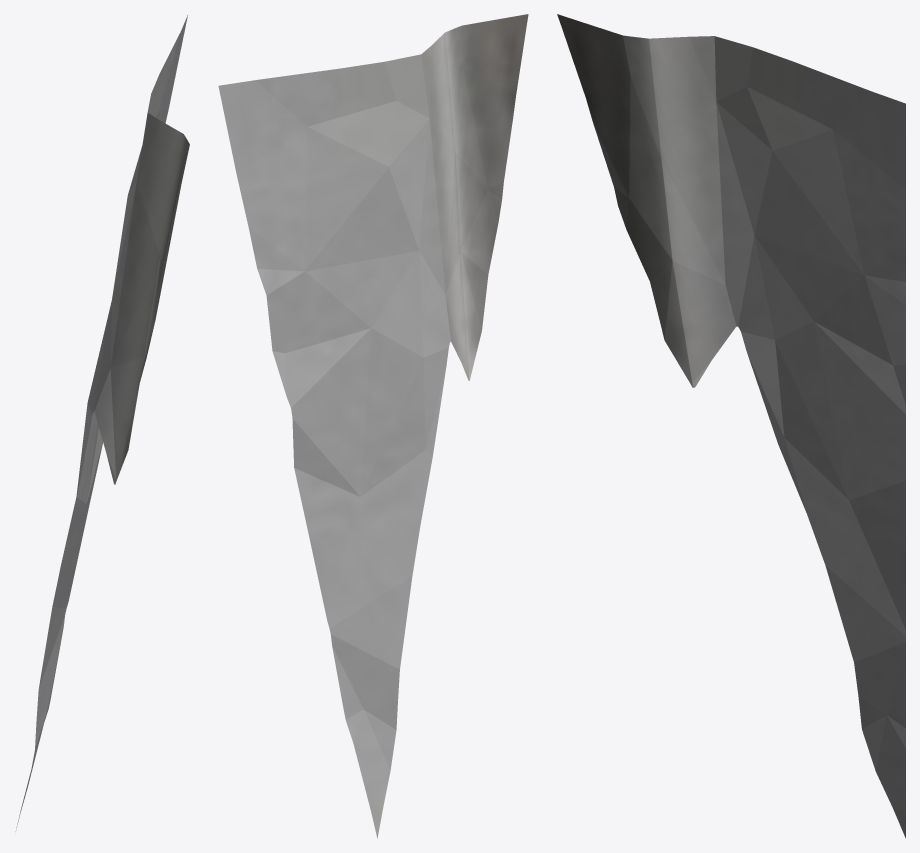
3 renders of one model, left to right at view 1: azimuth 30°, elevation 25°; view 2: azimuth 150°, elevation 25°; view 3: azimuth 270°, elevation 25°, orthographic. The views are drawn at different scales.
Size of the model in its own units: 0.0754 by 0.3236 by 0.124.
Materials: 1 (1 with a texture image).
